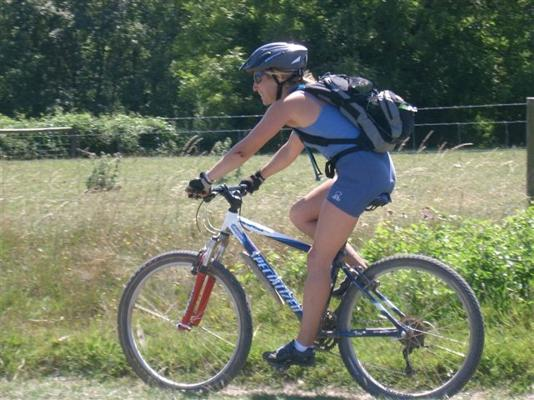person: (188, 43, 402, 366)
